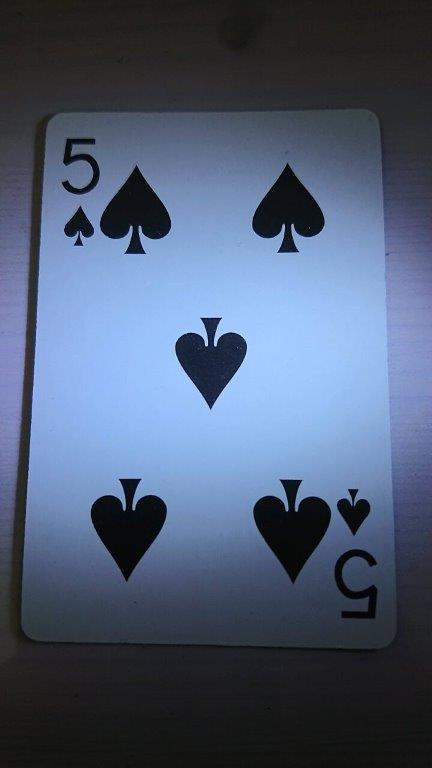5S: (18, 106, 400, 654)
